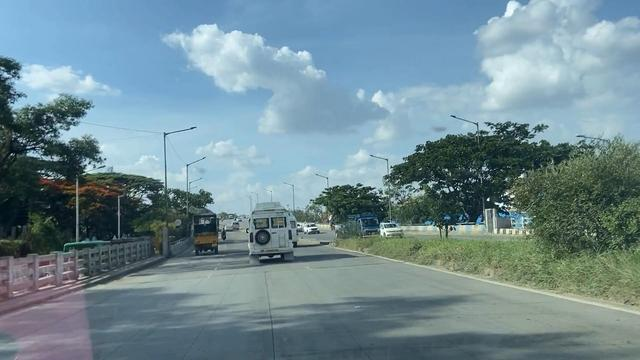HMV: (242, 201, 294, 265), (183, 209, 224, 258)
